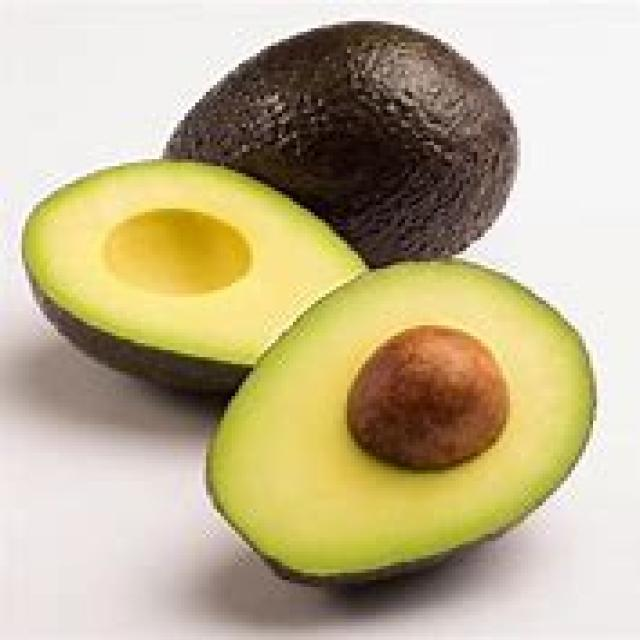avocado: (196, 258, 607, 601), (155, 17, 519, 262), (11, 163, 373, 398)
